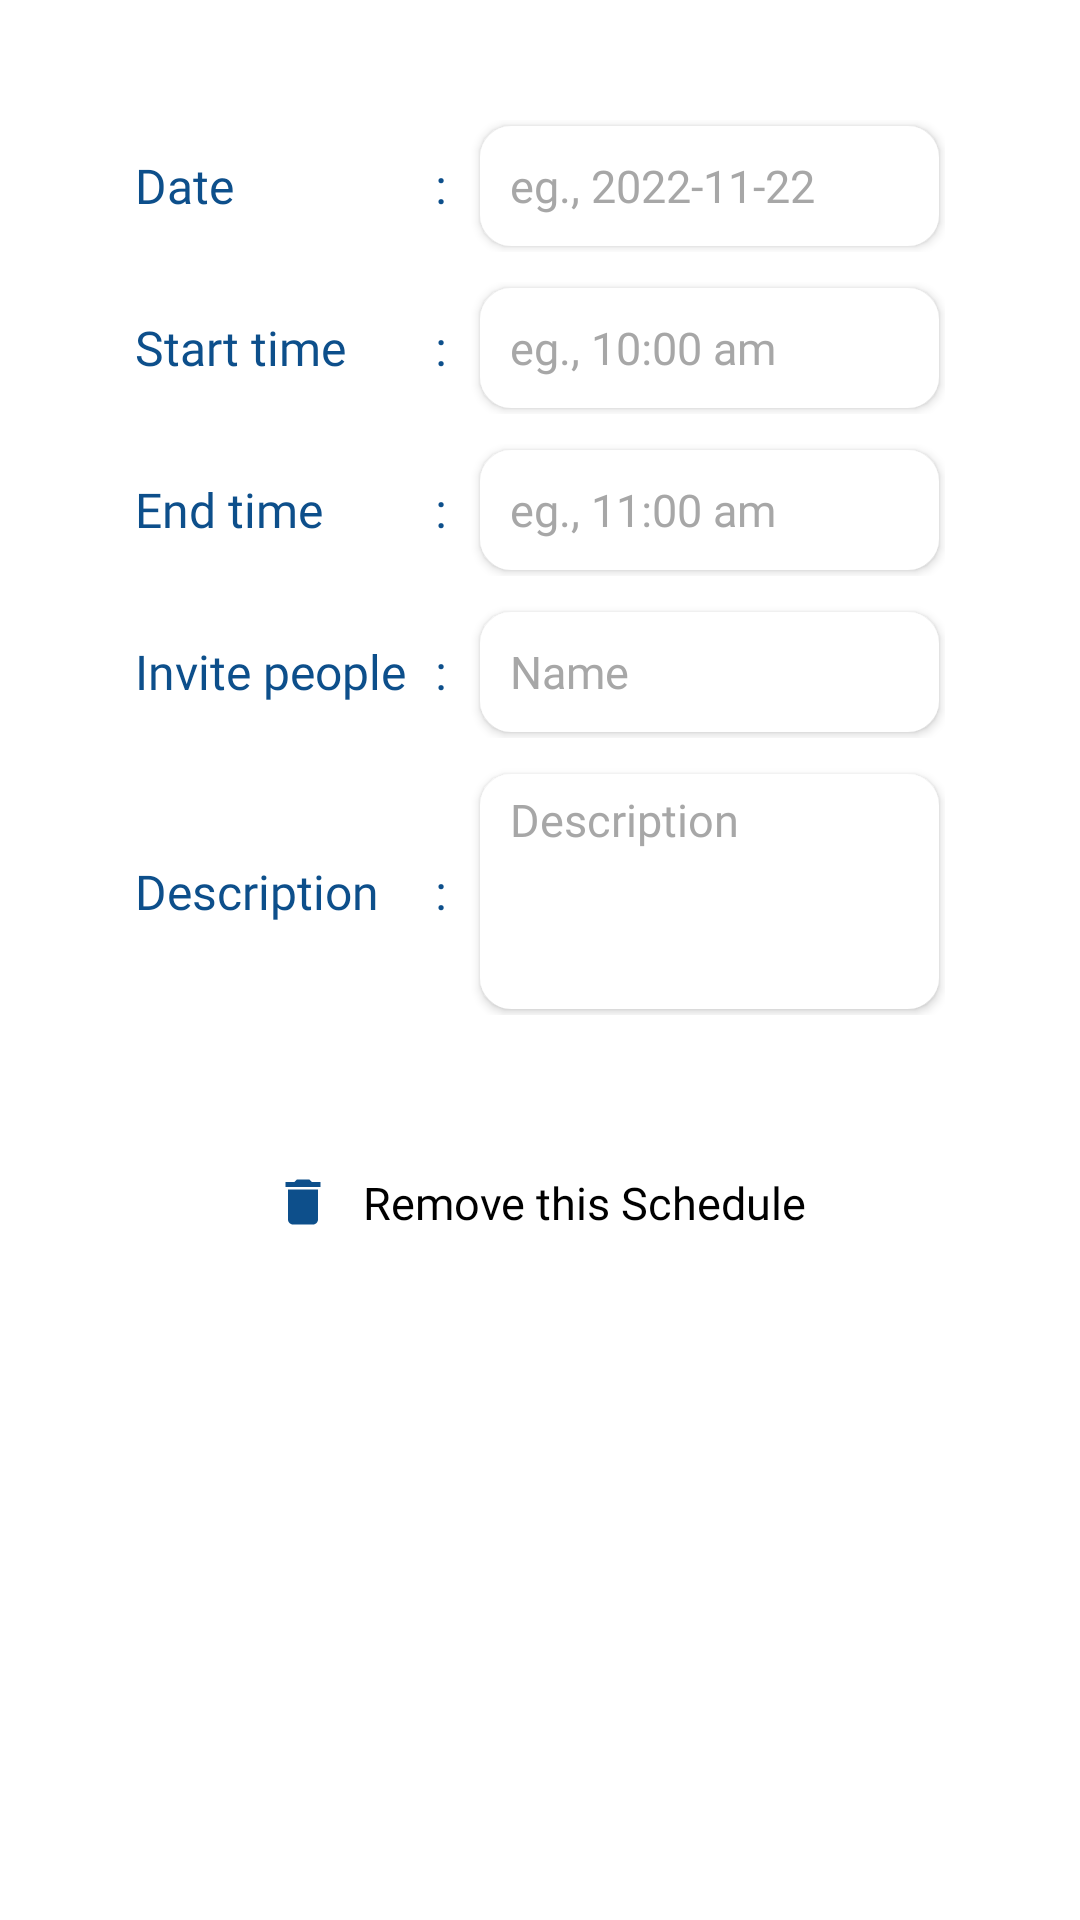

Icon bounding boxes for this 1080*1920 phone screenshot, format (x1, y1, x2, y2):
delete: (285, 1179, 321, 1225)
